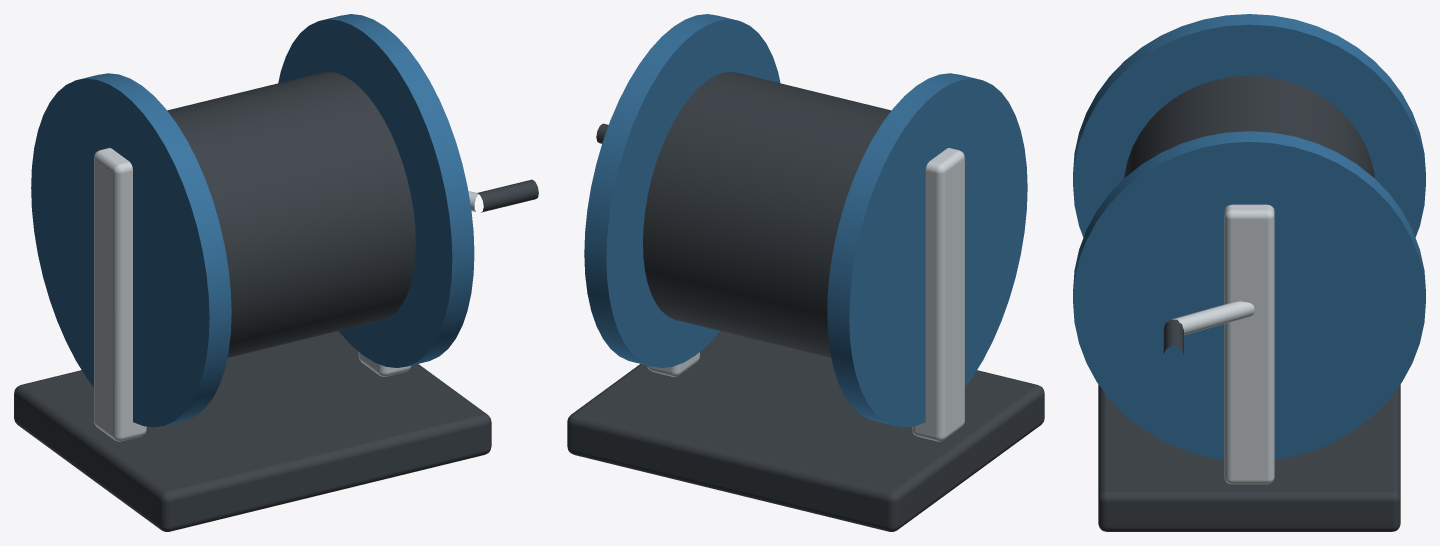
The model's file is fencing-club-and-tournament-piste-cord-storage-reel-a3a8d610__31243.glb.
3 views of the same model, side by side, from view 1: azimuth 30°, elevation 25°; view 2: azimuth 150°, elevation 25°; view 3: azimuth 270°, elevation 25° (orthographic).
Visible parts, largest first — view 1: cord-storage-reel; view 2: cord-storage-reel; view 3: cord-storage-reel.
Part boxes in pixels (left/top/right/bottom): cord-storage-reel: left=14, top=14, right=538, bottom=531; cord-storage-reel: left=567, top=14, right=1044, bottom=531; cord-storage-reel: left=1073, top=14, right=1425, bottom=531.
Size of the model in its own units: 0.37 by 0.33 by 0.28.
